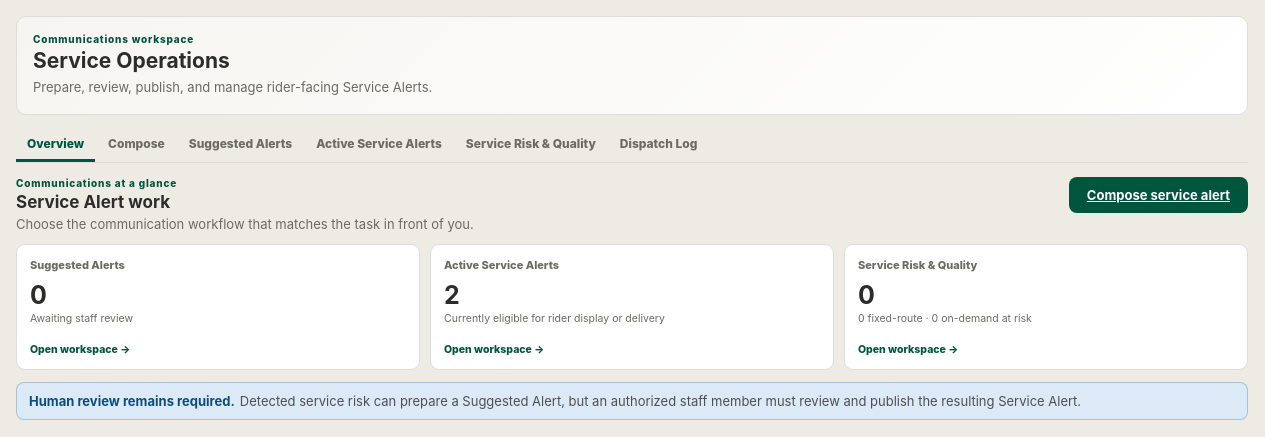
Test: Service Operations › keeps the Compose service alert action available from the overview
Click the link "Compose service alert". click: (1158, 194)
box: [1069, 176, 1248, 212]
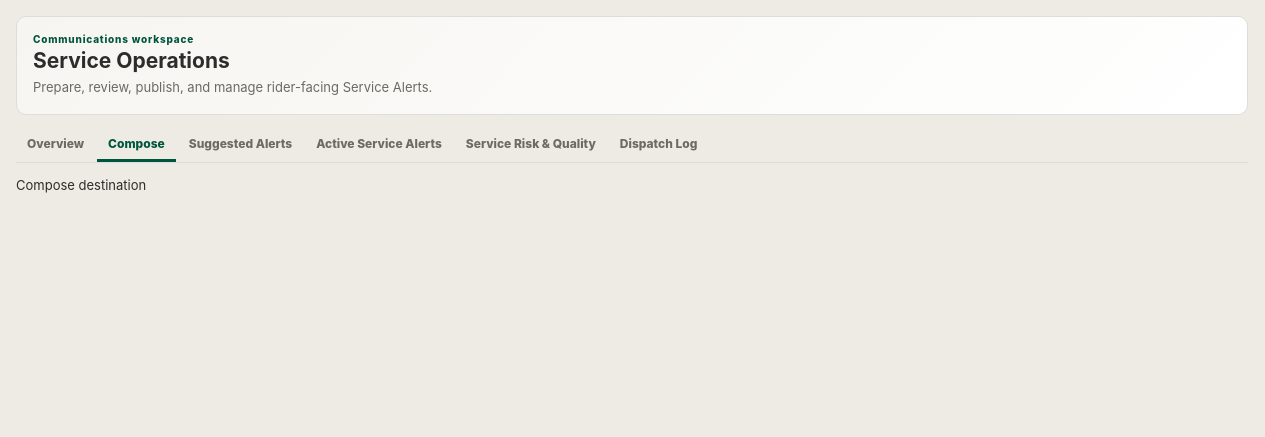
Expected: the text "Compose destination" is shown, [16, 176, 146, 192]
